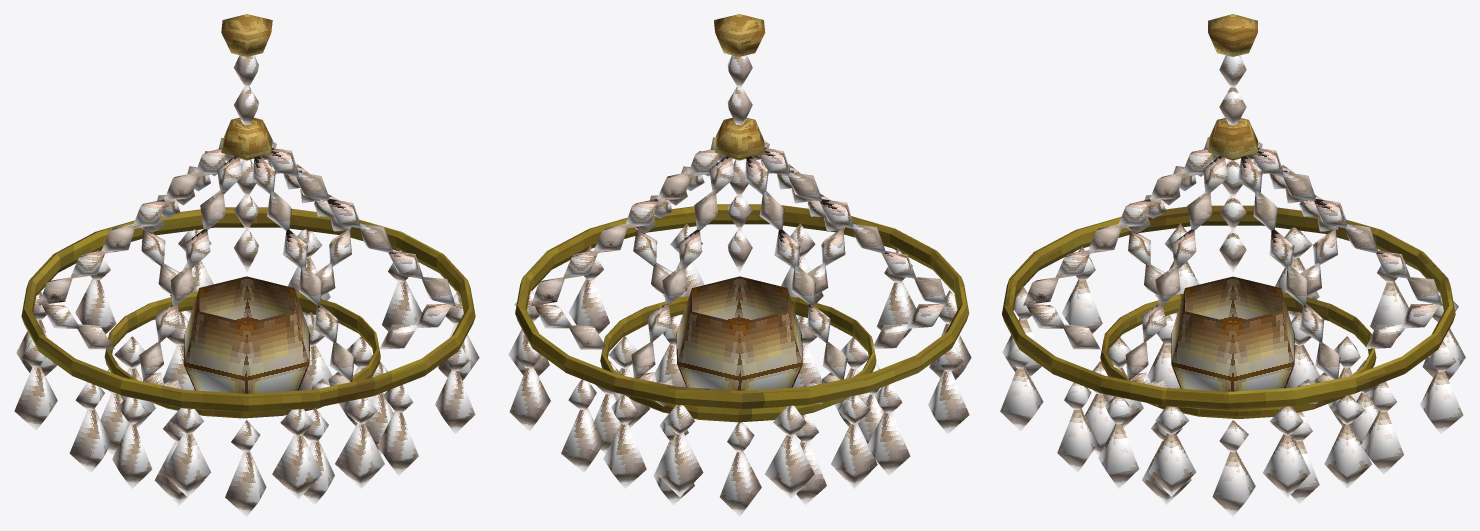
Rendered from Chandelier.obj.
3 renders of one model, left to right at view 1: azimuth 30°, elevation 25°; view 2: azimuth 150°, elevation 25°; view 3: azimuth 270°, elevation 25°, orthographic.
Bounding box in the file's own units: 0.8047 × 0.8438 × 0.7969.
Materials: 4 (4 with a texture image).
